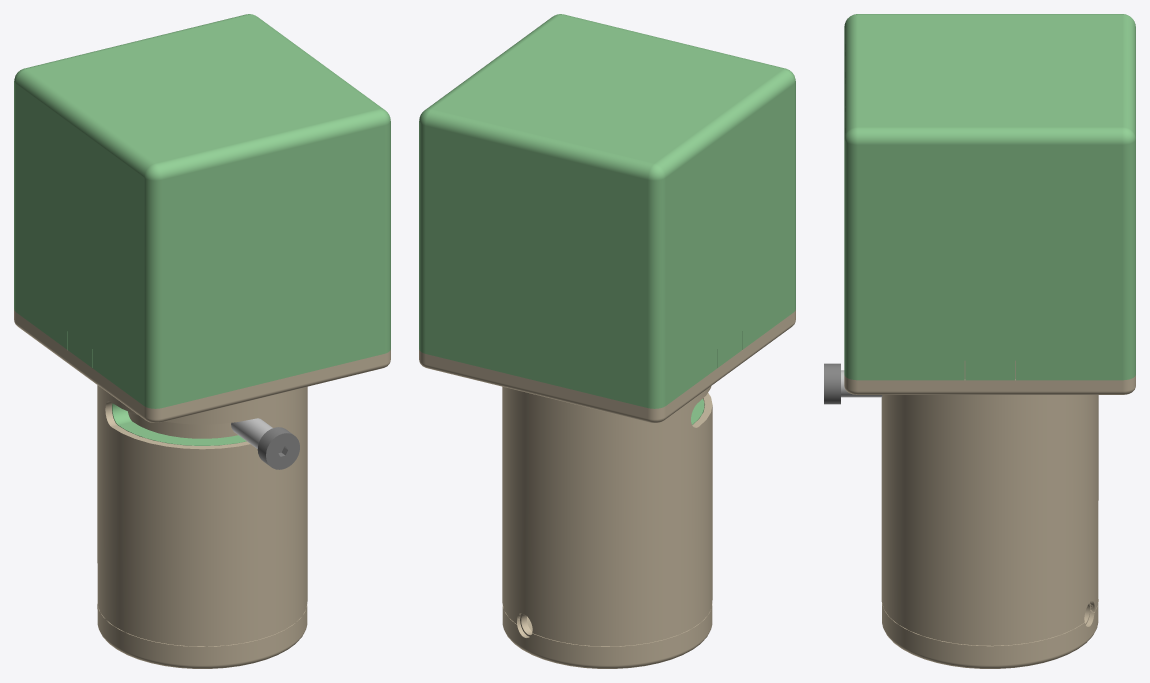
Rendered from cubey-lamp.glb.
3 views of the same model, side by side, from view 1: azimuth 30°, elevation 25°; view 2: azimuth 150°, elevation 25°; view 3: azimuth 270°, elevation 25° (orthographic). The views are drawn at different scales.
Parts seen in each view (by area): view 1: Quatro Cubey; view 2: Quatro Cubey; view 3: Quatro Cubey.
Boxes of the visible parts, x1=… form: Quatro Cubey: x1=14, y1=14, x2=390, y2=668; Quatro Cubey: x1=419, y1=14, x2=795, y2=668; Quatro Cubey: x1=824, y1=14, x2=1135, y2=668.
Bounding box in the file's own units: 13.65 × 28.63 × 14.6.
